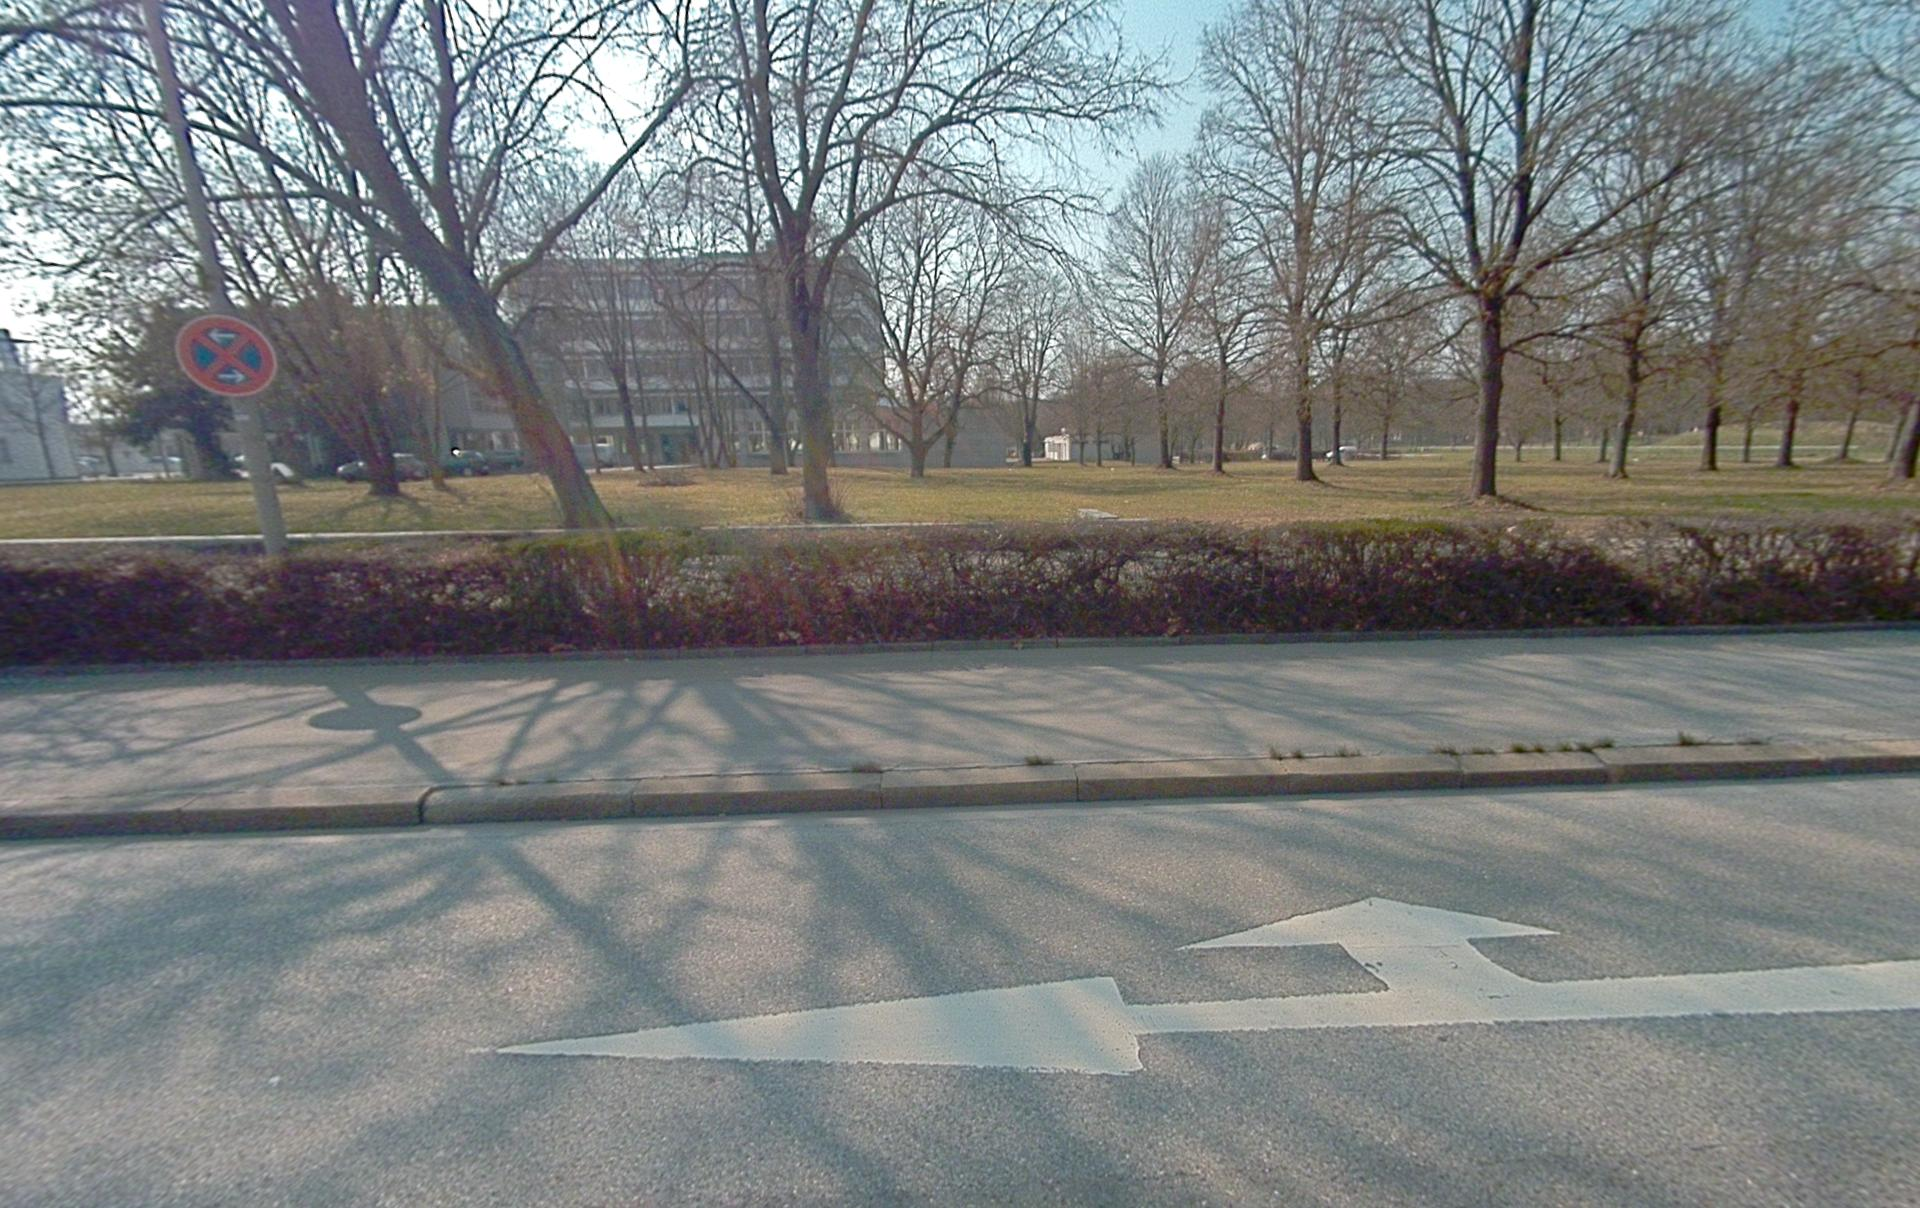car: (336, 453, 429, 483), (229, 454, 295, 483), (443, 449, 489, 476)
traffic sign: (174, 314, 278, 398)
